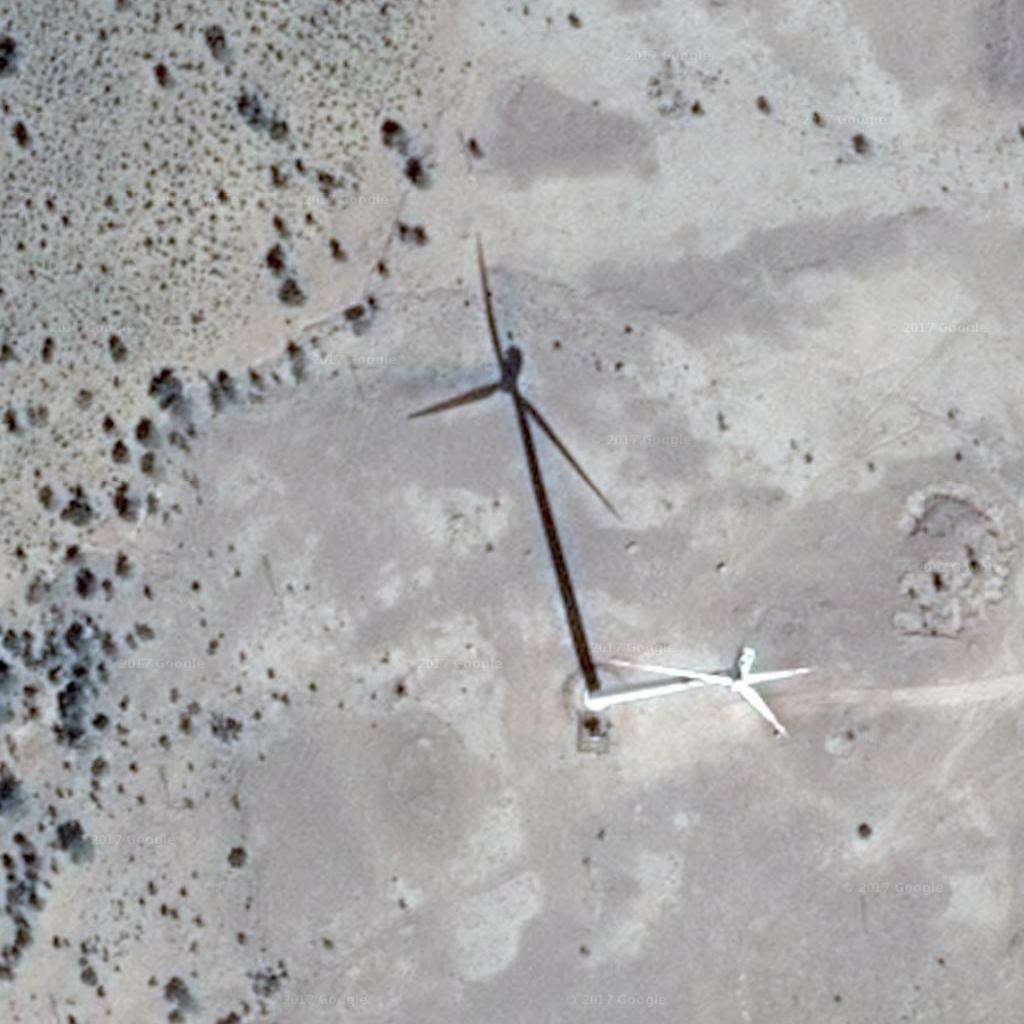Windmill: (389, 248, 657, 680)
